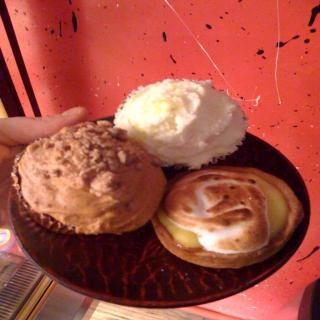Muffin: (11, 119, 167, 238), (114, 73, 251, 171)
